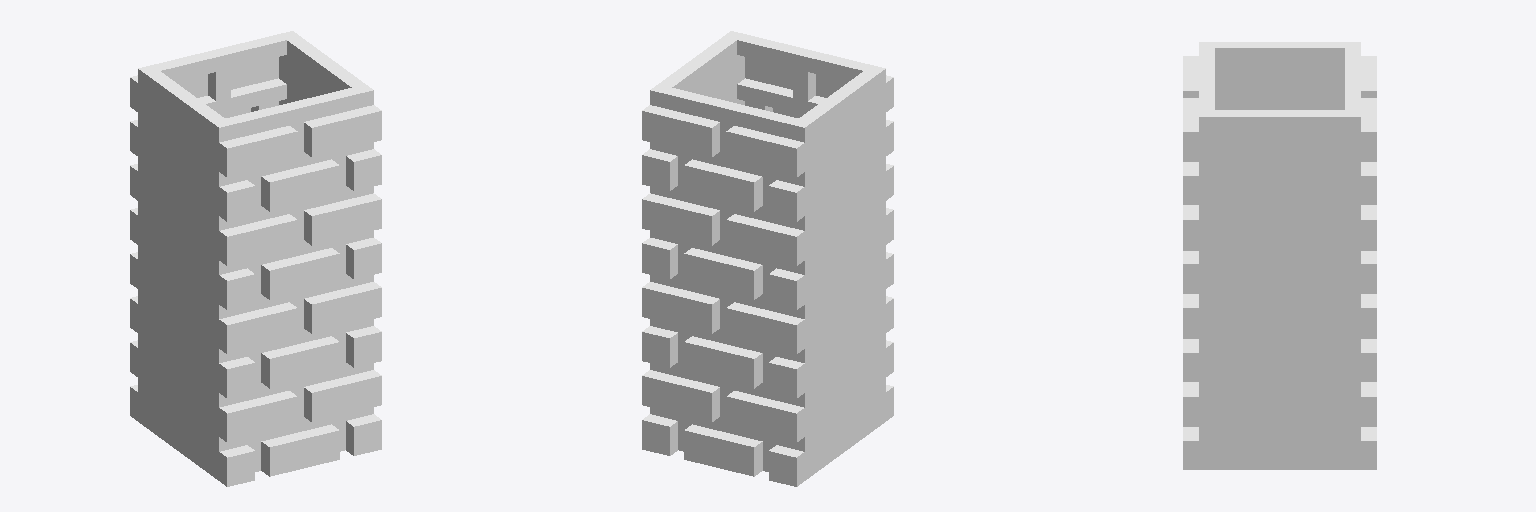
Rendered from column_h24_rc_1.0.obj.
3 renders of one model, left to right at view 1: azimuth 30°, elevation 25°; view 2: azimuth 150°, elevation 25°; view 3: azimuth 270°, elevation 25°, orthographic.
Visible parts, largest first — view 1: object 1; view 2: object 1; view 3: object 1.
Boxes of the visible parts, box(x1,y1,x2,y2) form: object 1: box(130, 31, 381, 486); object 1: box(642, 31, 893, 486); object 1: box(1183, 42, 1376, 469).
Bounding box in the file's own units: 1.1 × 2.4 × 1.2.